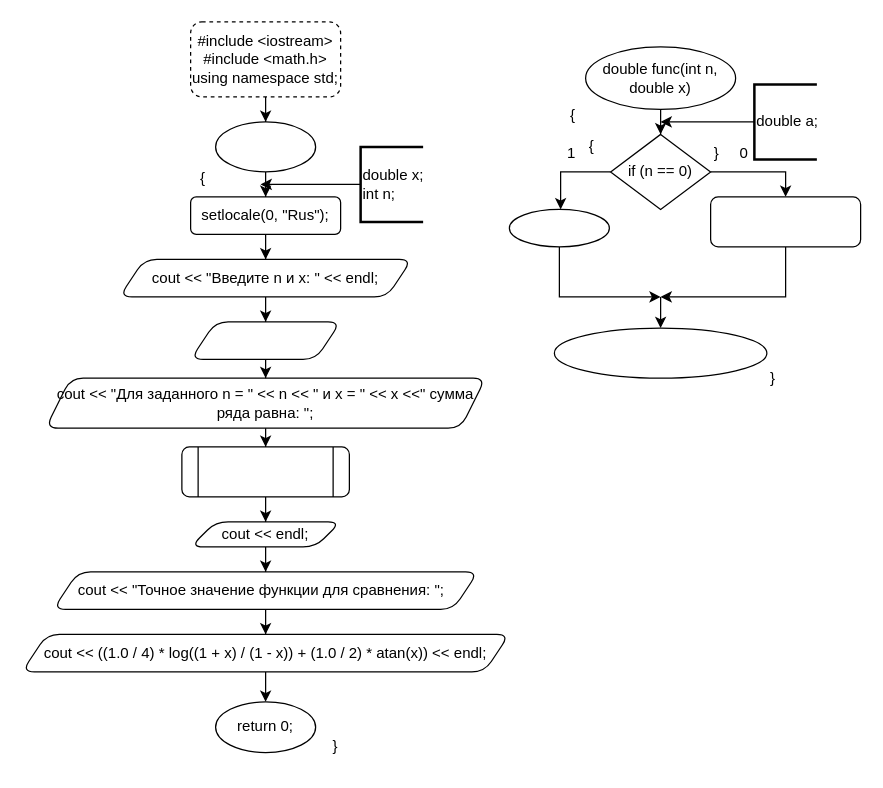
Some shapes in this 883 by 788 pixel diagram are drawn without their labels. Here are the shapes that lost their labels. From the top down, the centre of each, then its label:
At point (265, 146): "int main()".
At point (558, 227): "return x;".
At point (785, 221): "a = (pow(x, 4 * n + 1) / (4 * n + 1));".
At point (265, 340): "cin >> n >> x;".
At point (660, 352): "return (a + func(n - 1, x));".
At point (265, 471): "cout << func(n, x);".
